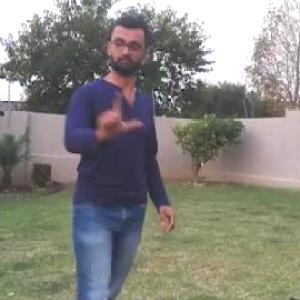land_hand: (92, 90, 144, 140)
